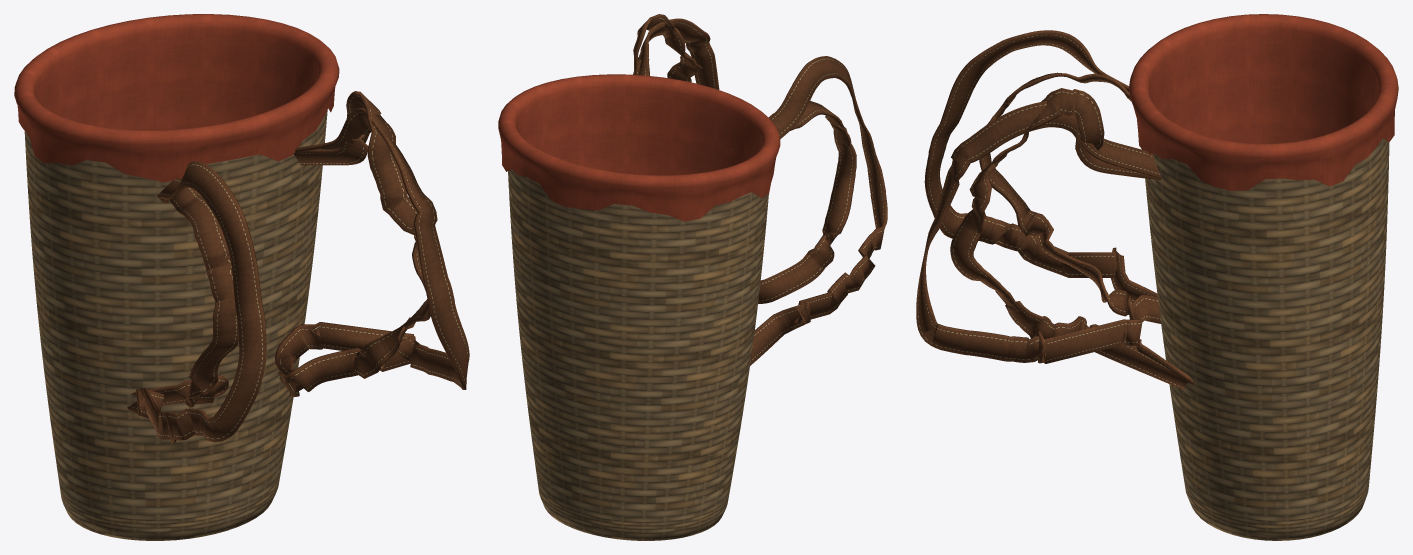
Rendered from prop-basket.glb.
3 renders of one model, left to right at view 1: azimuth 30°, elevation 25°; view 2: azimuth 150°, elevation 25°; view 3: azimuth 270°, elevation 25°, orthographic. The views are drawn at different scales.
Parts seen in each view (by area): view 1: basket, straps-forager-m, straps-forager-f; view 2: basket, straps-forager-m, straps-forager-f; view 3: basket, straps-forager-m, straps-forager-f.
Part boxes in pixels (bbox=[...]): basket: bbox=[14, 14, 339, 540]; straps-forager-m: bbox=[127, 107, 469, 443]; straps-forager-f: bbox=[131, 91, 430, 407]; basket: bbox=[498, 74, 780, 540]; straps-forager-m: bbox=[633, 18, 887, 365]; straps-forager-f: bbox=[633, 14, 856, 303]; basket: bbox=[1129, 14, 1398, 540]; straps-forager-m: bbox=[916, 30, 1195, 384]; straps-forager-f: bbox=[950, 72, 1188, 389].
Size of the model in its own units: 0.4 by 0.6111 by 0.59.
3 materials, 3 textured.
